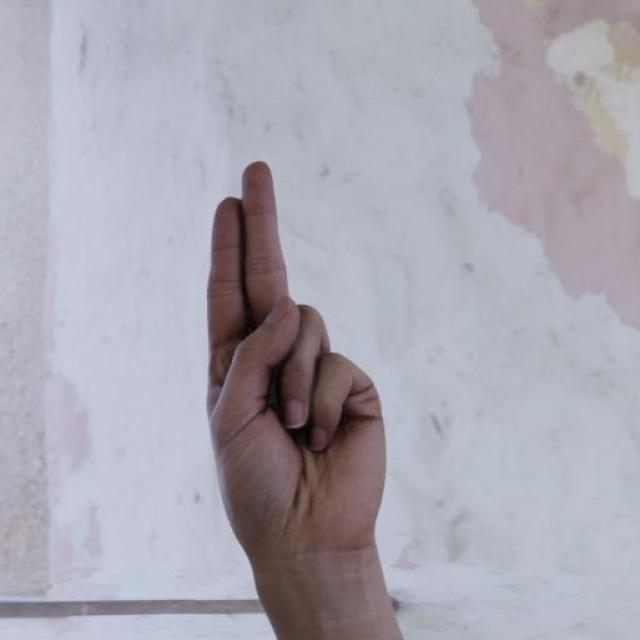U: (203, 157, 390, 564)
